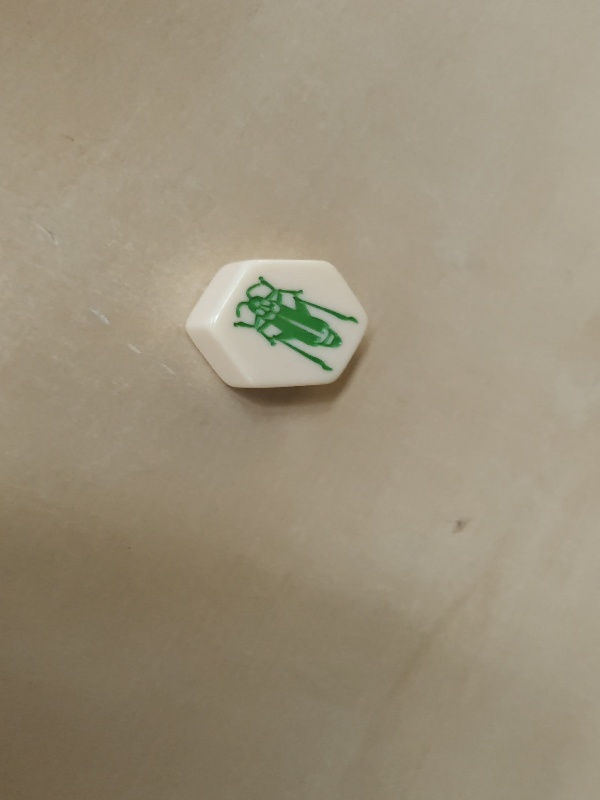white_grasshopper: (187, 255, 373, 389)
